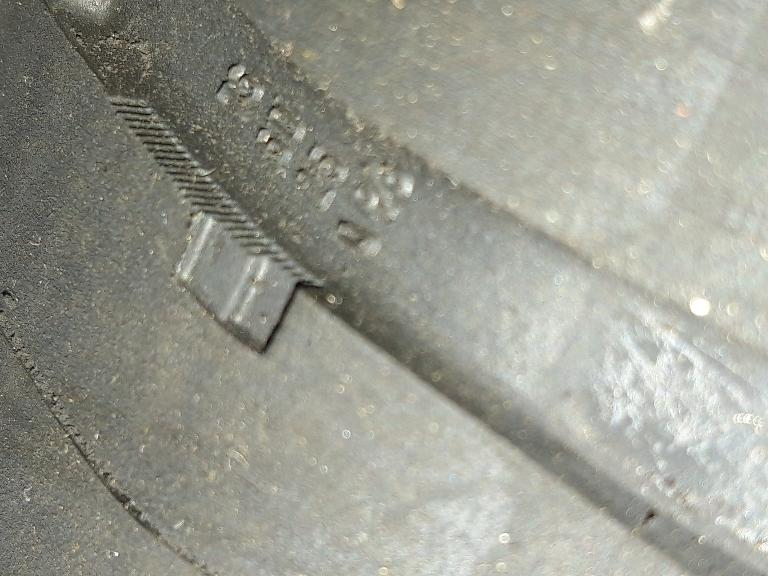temoin:25: (157, 196, 340, 366)
